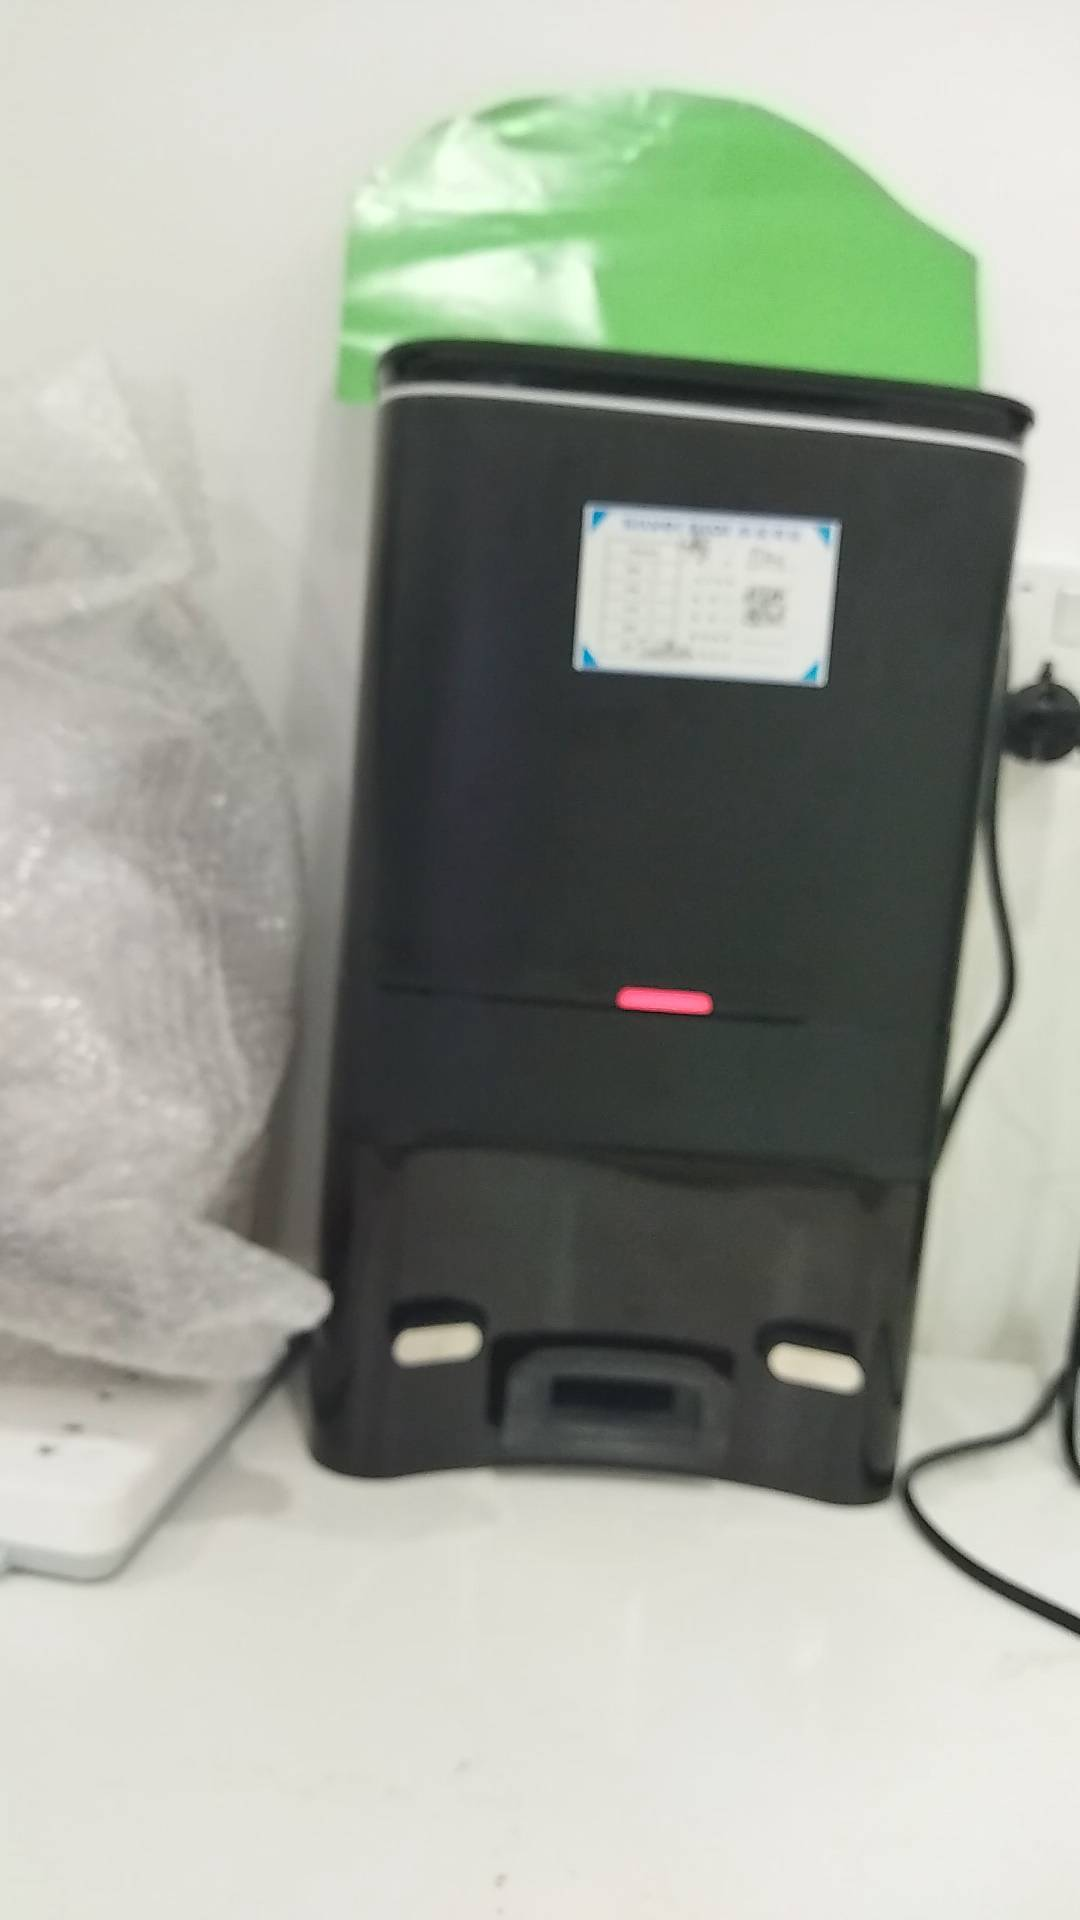dust collecting barrel: (309, 338, 1033, 1511)
